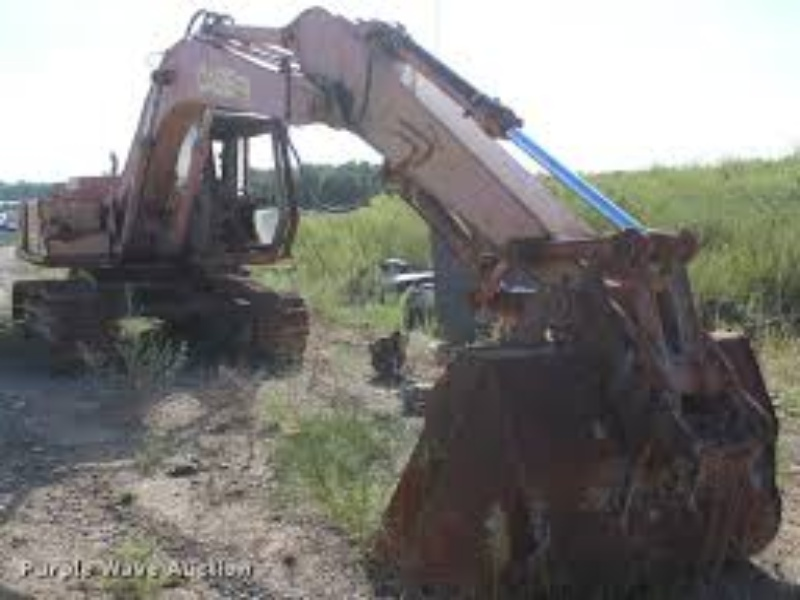wajueji: (14, 7, 401, 385)
